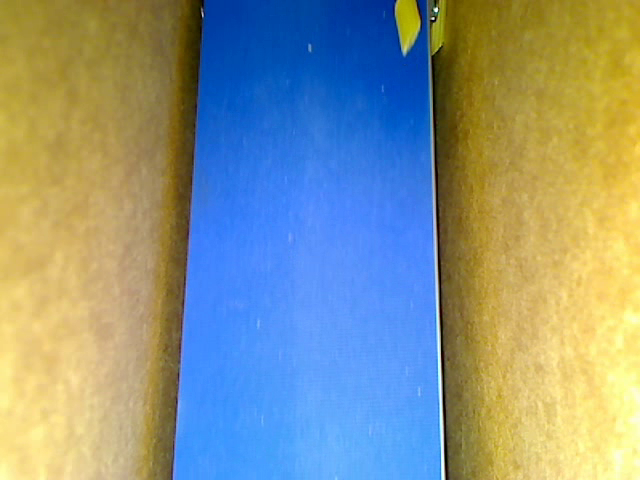penne: (391, 1, 420, 57), (428, 1, 450, 66)
